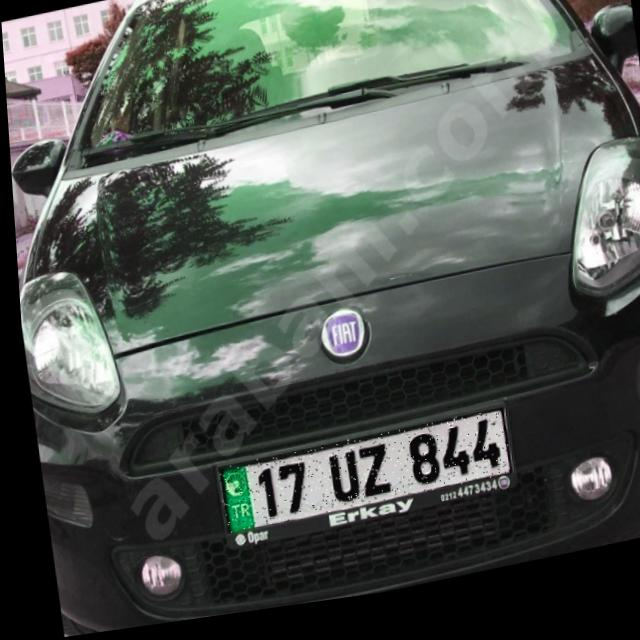license_plate: (209, 420, 505, 540)
